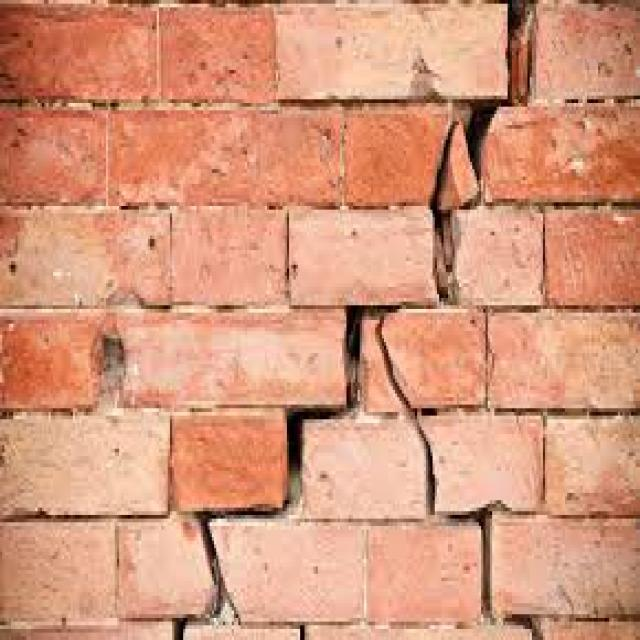Crack: (167, 0, 536, 636), (378, 306, 538, 636)
